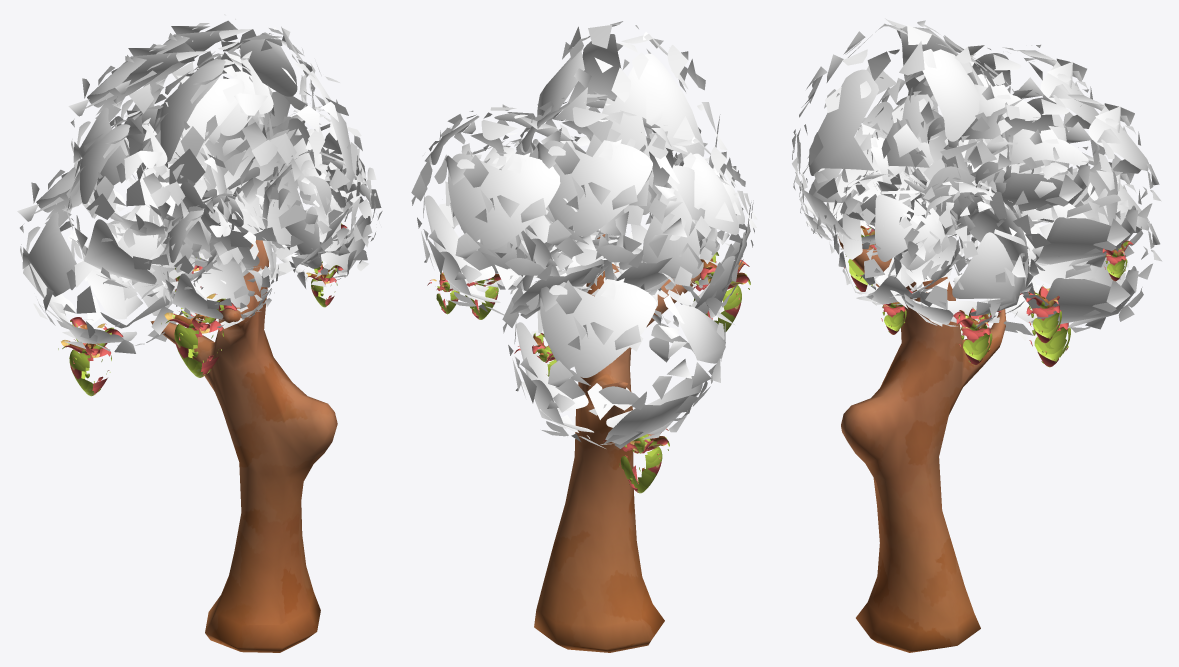
Rendered from Arbre cabais.fbx.
3 views of the same model, side by side, from view 1: azimuth 30°, elevation 25°; view 2: azimuth 150°, elevation 25°; view 3: azimuth 270°, elevation 25° (orthographic).
Visible parts, largest first — view 1: Buissons.030, Carotte Print 3D.010, Carotte Print 3D.001, Carotte Print 3D.008; view 2: Buissons.030, Carotte Print 3D.001, Carotte Print 3D.010, Carotte Print 3D.013; view 3: Buissons.030, Carotte Print 3D.013, Carotte Print 3D.014, Carotte Print 3D.001, Carotte Print 3D.012, Carotte Print 3D.008.
Part boxes in pixels (bbox=[...]): Buissons.030: bbox=[17, 14, 382, 652]; Carotte Print 3D.010: bbox=[161, 289, 236, 377]; Carotte Print 3D.001: bbox=[58, 317, 123, 396]; Carotte Print 3D.008: bbox=[306, 263, 343, 307]; Buissons.030: bbox=[411, 21, 757, 652]; Carotte Print 3D.001: bbox=[604, 428, 669, 493]; Carotte Print 3D.010: bbox=[693, 252, 750, 331]; Carotte Print 3D.013: bbox=[465, 273, 501, 319]; Buissons.030: bbox=[792, 18, 1162, 652]; Carotte Print 3D.013: bbox=[953, 307, 1001, 365]; Carotte Print 3D.014: bbox=[1020, 285, 1061, 343]; Carotte Print 3D.001: bbox=[1026, 305, 1070, 367]; Carotte Print 3D.012: bbox=[1102, 240, 1133, 281]; Carotte Print 3D.008: bbox=[881, 289, 912, 334].
Bounding box in the file's own units: 828 × 1595 × 895.
